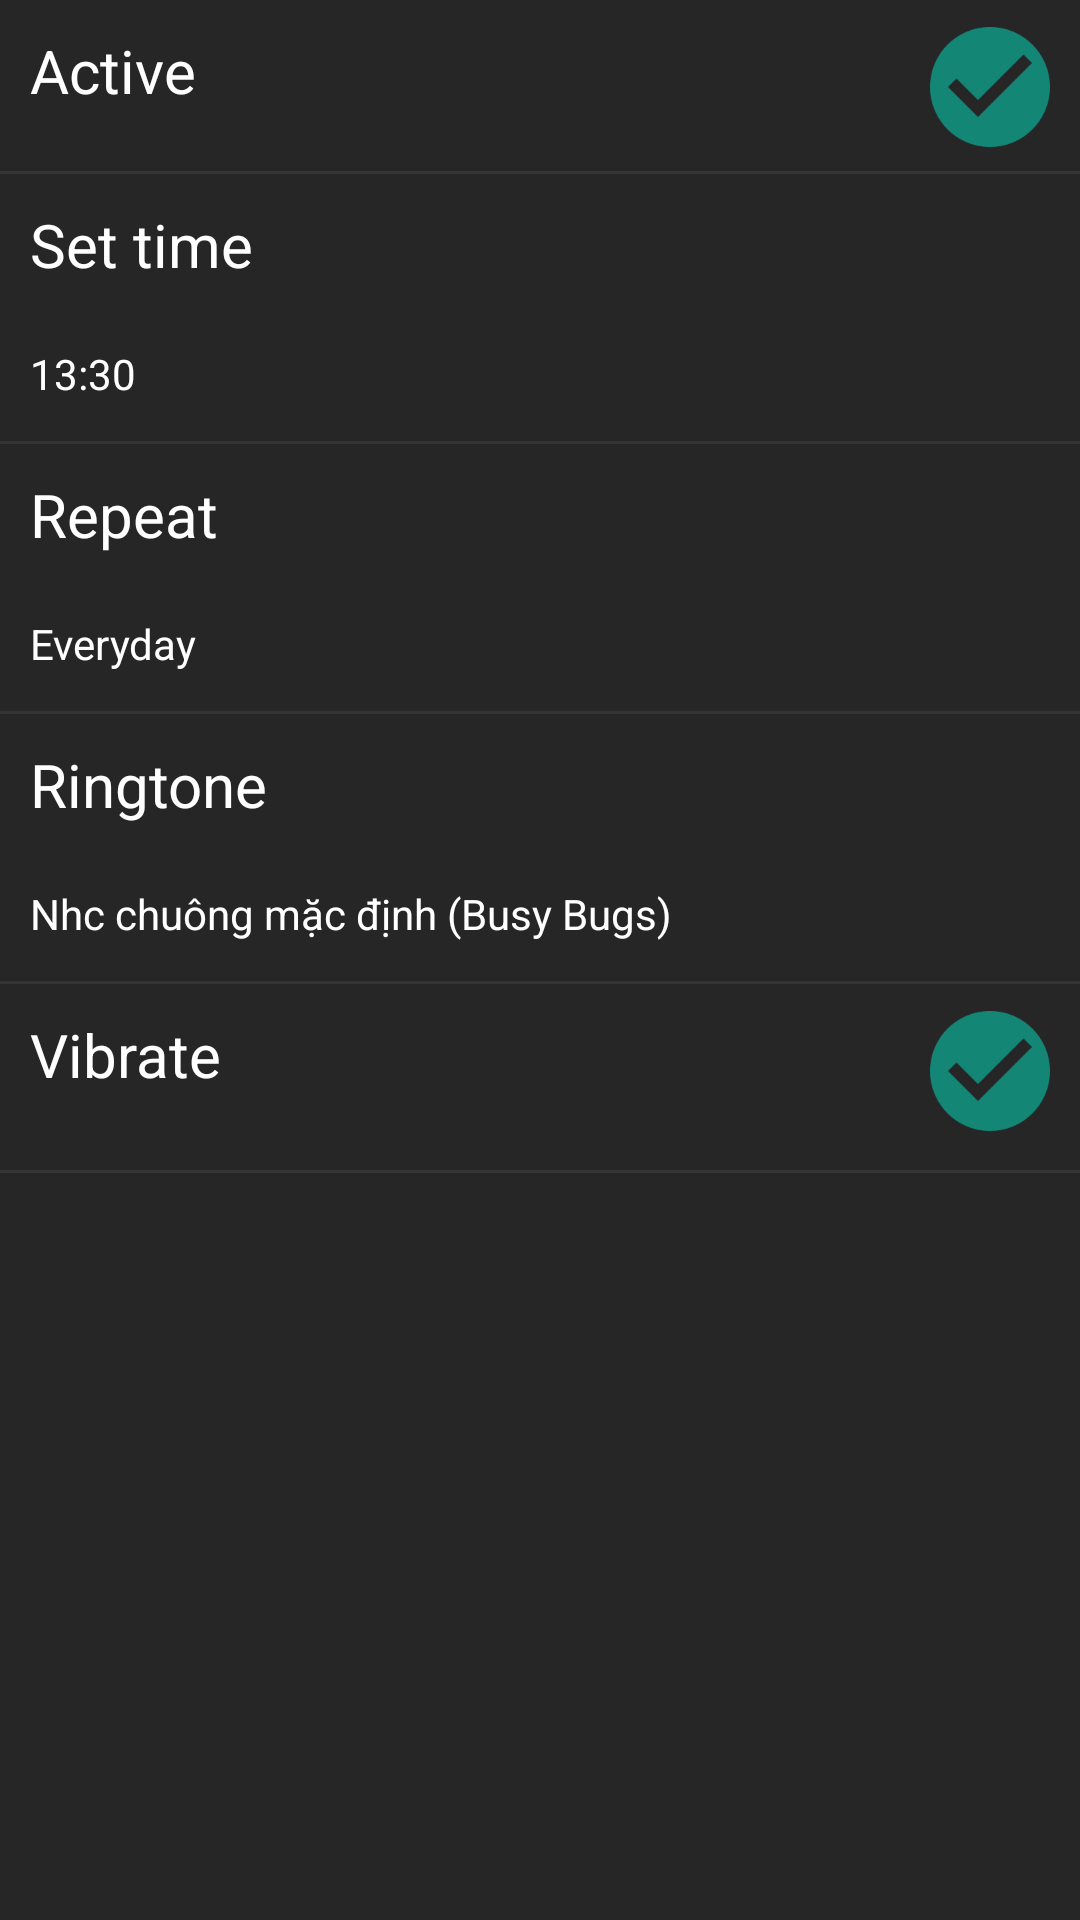

Named icons in this screenshot (1080 × 1920) and their centers, (x=x, y=y):
check: (x=990, y=87), (x=990, y=1071)
